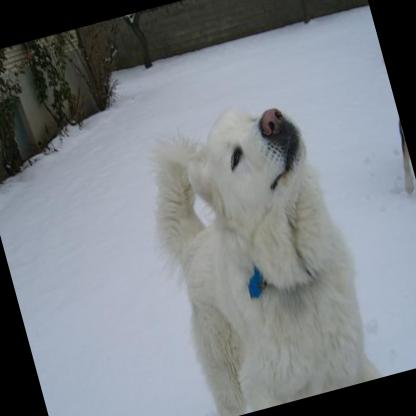Great_Pyrenees: (115, 81, 382, 416)
